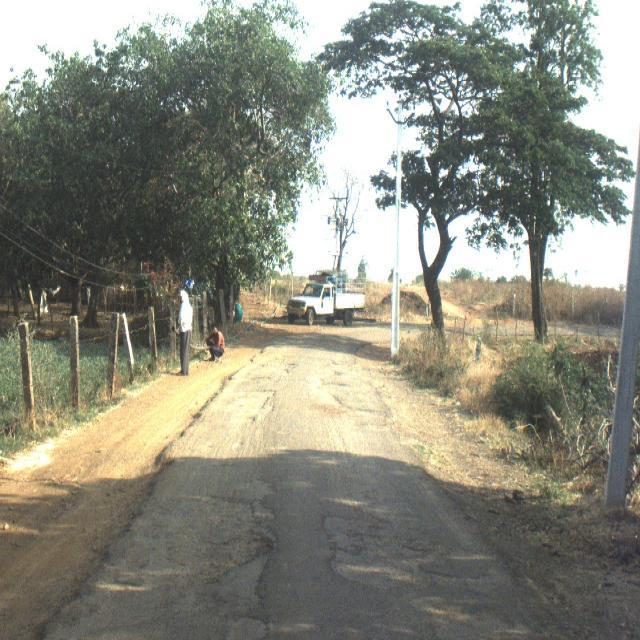Pothole: (326, 510, 402, 592), (209, 391, 274, 431)
